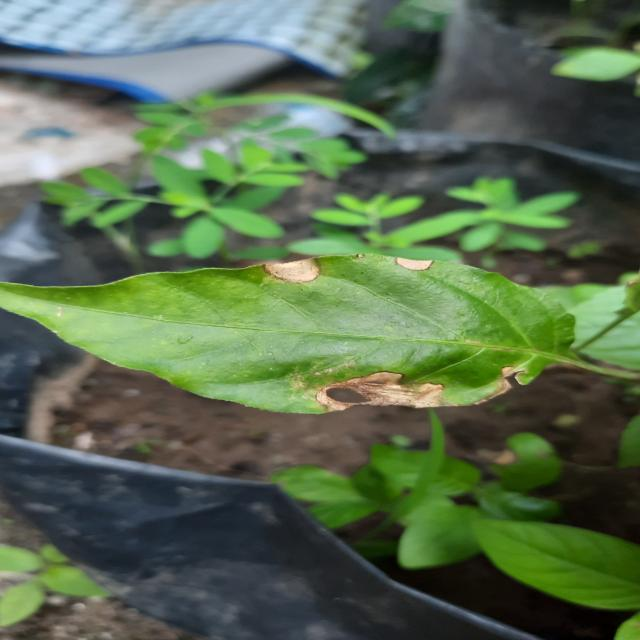bercak_daun: (0, 241, 553, 422)
